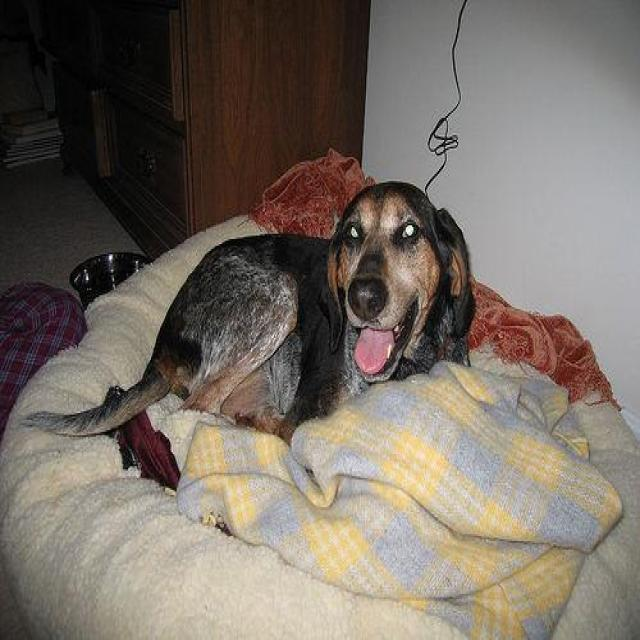adult_dog: (32, 179, 478, 441)
